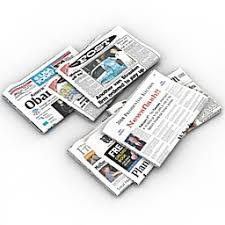Printing industry: (5, 18, 225, 207)
